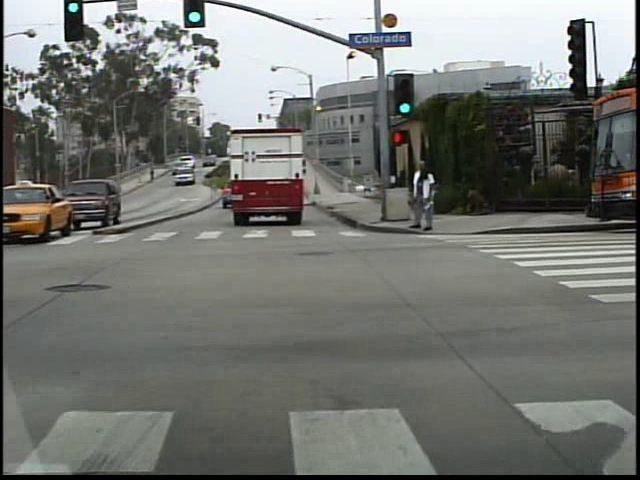person: (416, 157, 443, 236)
